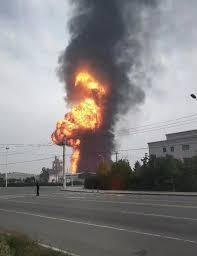fire: (51, 68, 112, 171)
